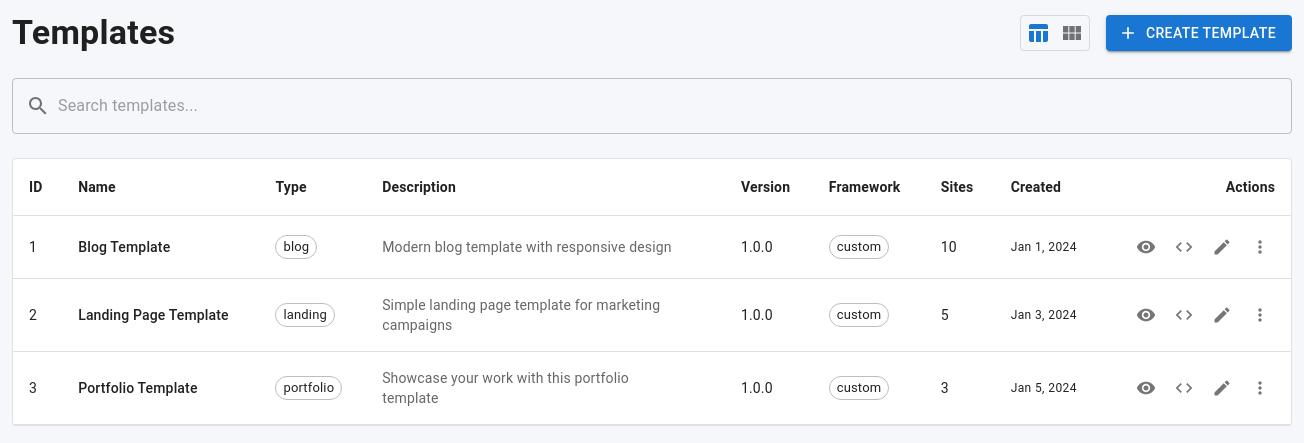
Test case: TemplatesPage › Search Functionality › should filter templates by name
The width and height of the screenshot is (1304, 443).
Check: the text "Blog Template" is shown, box [78,239,170,255]
Type "Blog" into the field with placeholder "Search templates..." at x=675, y=106, box [58,78,1292,134]
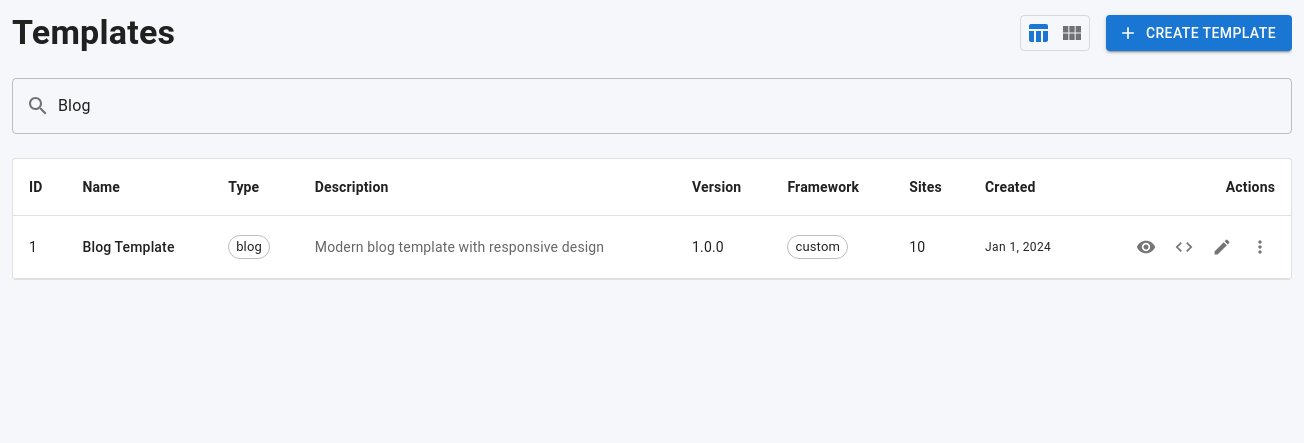
Check: the text "Blog Template" is shown, box [82,239,175,255]
Check: the text "Landing Page Template" is gone
